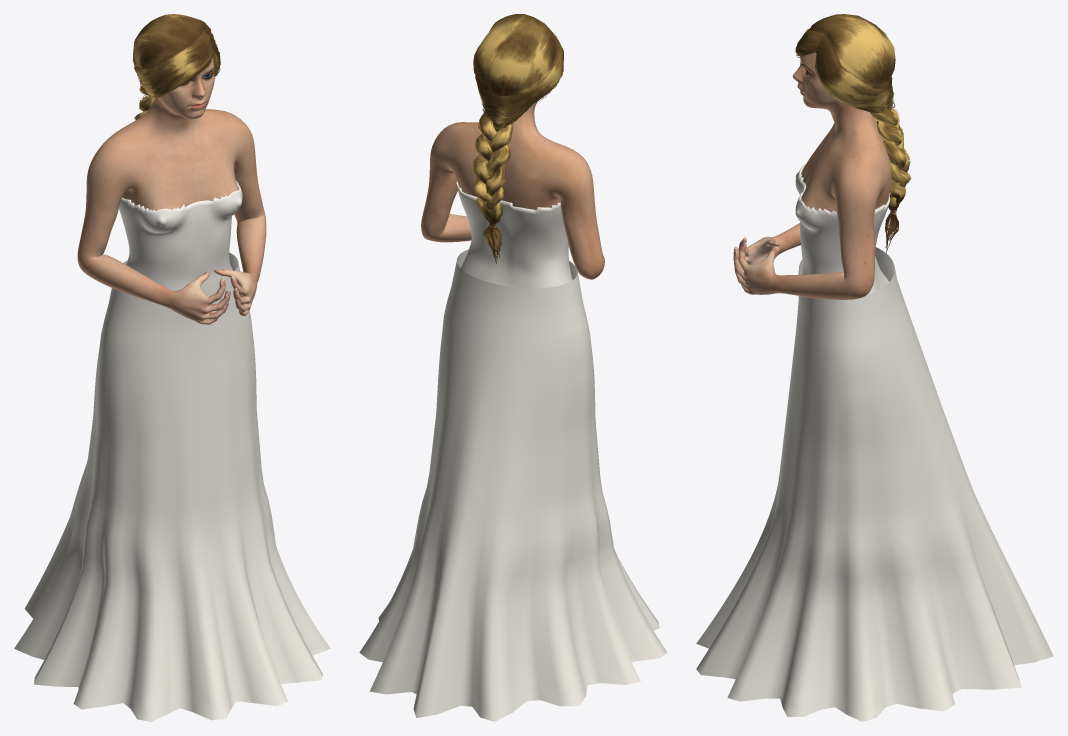
File: bride_realistic.glb
The picture shows the model from 3 angles, left to right: view 1: azimuth 30°, elevation 25°; view 2: azimuth 150°, elevation 25°; view 3: azimuth 270°, elevation 25°; orthographic projection. The views are drawn at different scales.
Parts seen in each view (by area): view 1: gown.skirt, bride.body, gown.bodice, bride.braid01; view 2: gown.skirt, bride.body, bride.braid01, gown.bodice; view 3: gown.skirt, bride.body, bride.braid01, gown.bodice.
Part boxes in pixels (bbox=[...]): gown.skirt: bbox=[14, 252, 330, 721]; bride.body: bbox=[77, 57, 266, 324]; gown.bodice: bbox=[119, 181, 242, 290]; bride.braid01: bbox=[132, 14, 220, 120]; gown.skirt: bbox=[359, 249, 667, 721]; bride.body: bbox=[421, 99, 604, 279]; bride.braid01: bbox=[472, 14, 563, 263]; gown.bodice: bbox=[456, 181, 572, 288]; gown.skirt: bbox=[696, 247, 1053, 721]; bride.body: bbox=[733, 52, 891, 299]; bride.braid01: bbox=[795, 14, 911, 253]; gown.bodice: bbox=[795, 164, 890, 293].
Bounding box in the file's own units: 0.6733 × 1.54 × 0.7757.
Materials: 7 (6 with a texture image).
